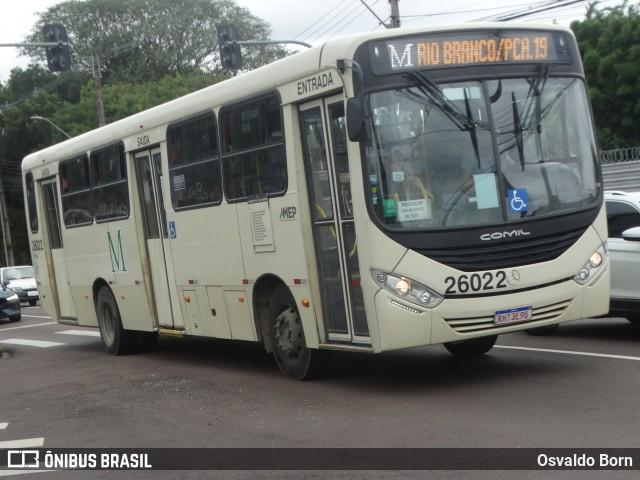RIO BRANCO: (414, 34, 501, 69)
